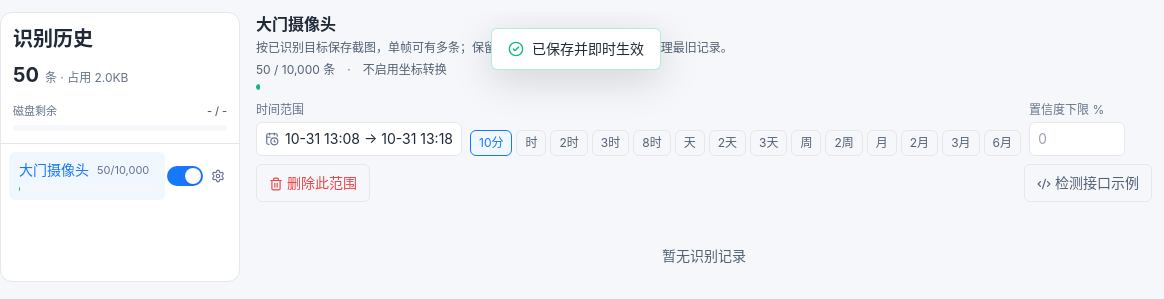
Scenario: RecognitionHistoryPage —— 时间范围快捷按钮 + 置信度筛选 › "清除筛选"仅在偏离默认状态时出现——点击后重置回最近 10 分钟默认值、清空置信度
Expected: the button "10分" is shown, 470,130 -> 512,156
Expected: the text "清除筛选" is not shown
Type "40" into the number field with test id "min-confidence-input" at (1077, 139), box 1029,122 -> 1125,156
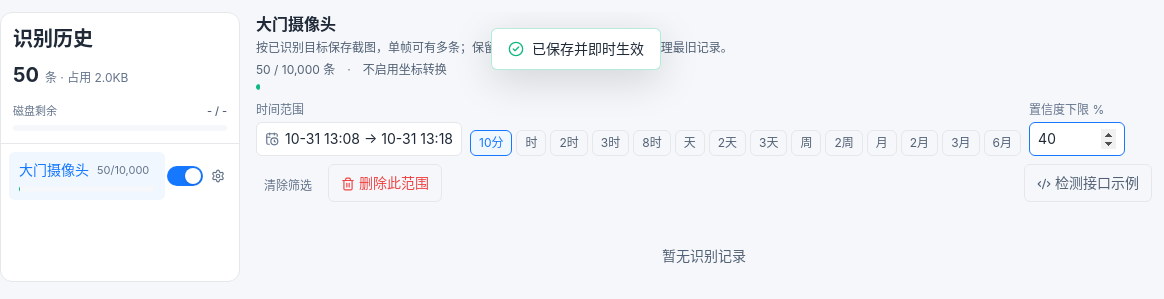
Click the button "天" at (690, 143), box 675,130 -> 705,156
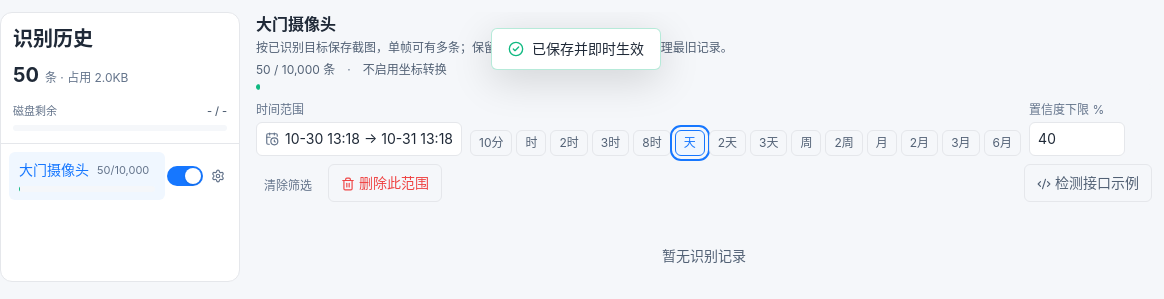
Expected: the button "清除筛选" is shown
Click the button "清除筛选" at (288, 186), box 256,170 -> 320,202
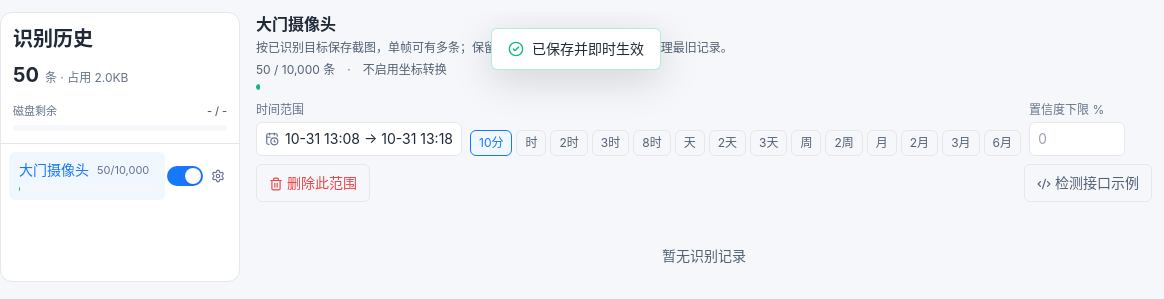
Expected: the number field with test id "min-confidence-input" is empty, 1029,122 -> 1125,156
Expected: the button "清除筛选" is gone
